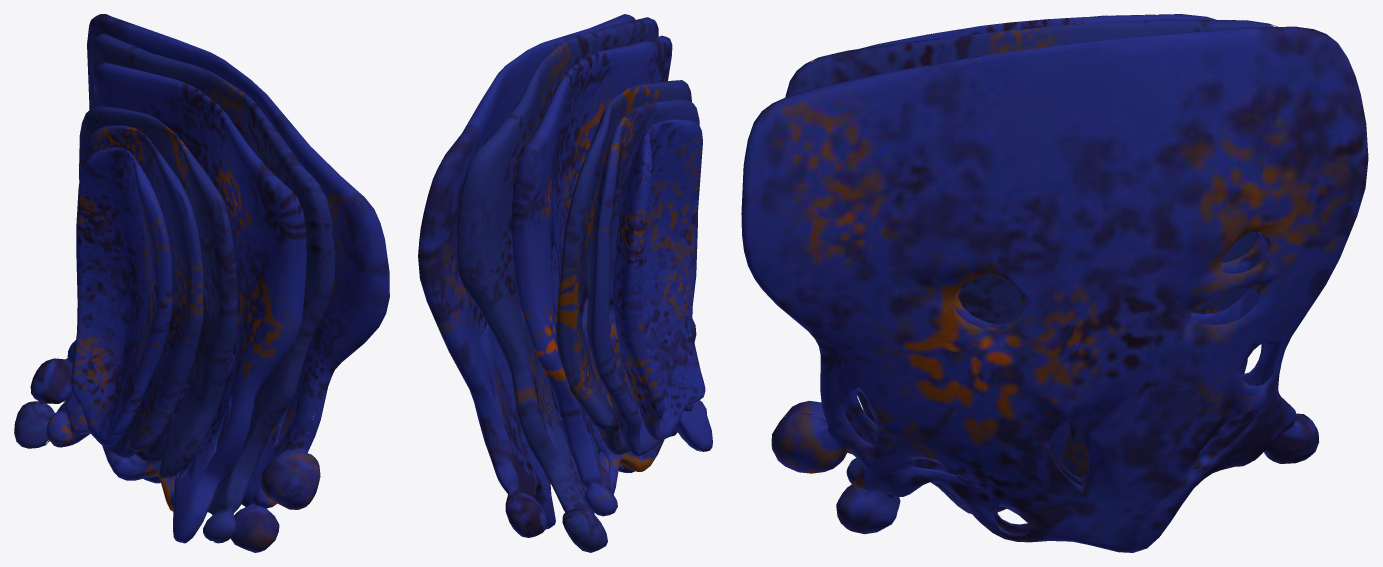
The model's file is golgi_apparatus.glb.
3 views of the same model, side by side, from view 1: azimuth 30°, elevation 25°; view 2: azimuth 150°, elevation 25°; view 3: azimuth 270°, elevation 25° (orthographic). The views are drawn at different scales.
Parts seen in each view (by area): view 1: golgi_apparatus; view 2: golgi_apparatus; view 3: golgi_apparatus.
Boxes of the visible parts, x1,y1,x2,y2 form: golgi_apparatus: (14,14,389,552); golgi_apparatus: (418,14,712,552); golgi_apparatus: (741,14,1368,552).
Bounding box in the file's own units: 0.7507 × 1.66 × 1.74.
6 materials, 6 textured.
